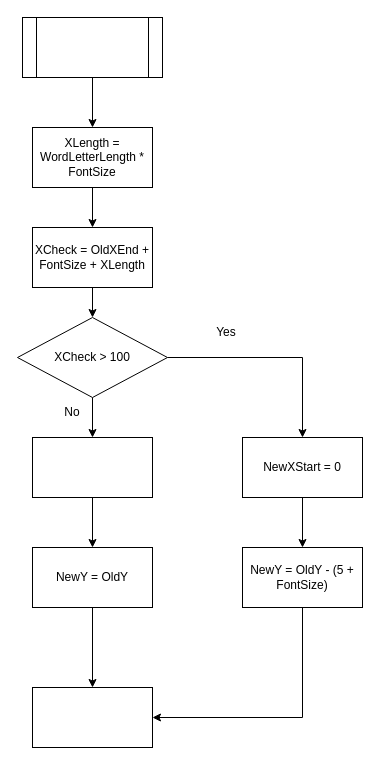
This 380x765 diagram has some shape labels left out. The shapes that lost their labels are listed below. From the top down, each one's centre as x and y in pixels, then its label:
At point 92,47: "WordOriginOffset".
At point 92,467: "NewXStart = OldXEnd + FontSize".
At point 92,717: "return 0".
